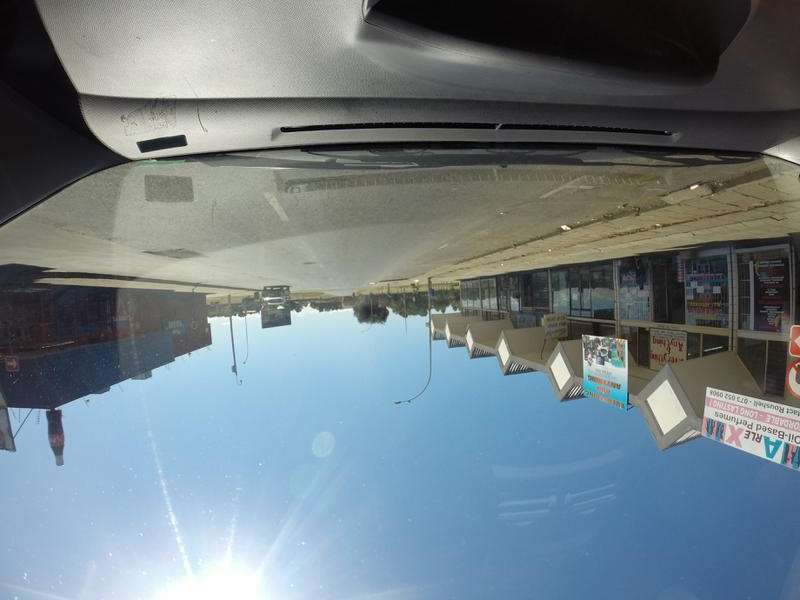pothole: (144, 250, 204, 264), (299, 258, 314, 265)
